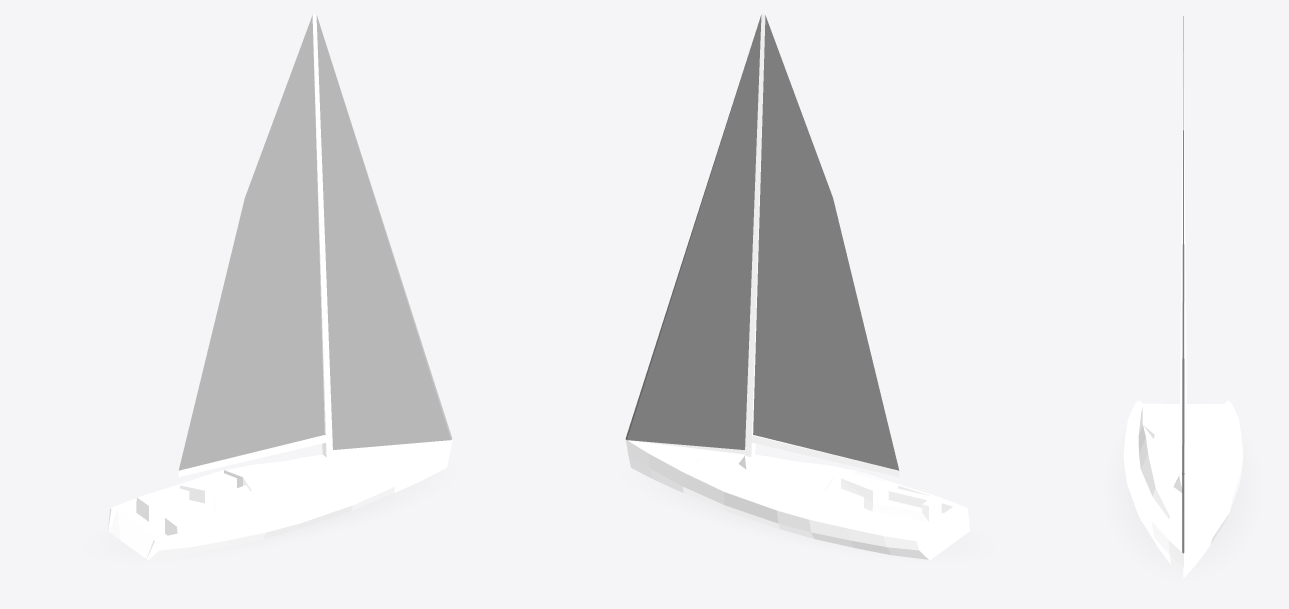
File: AIS_Sailboat-Large-A_001.glb
3 renders of one model, left to right at view 1: azimuth 30°, elevation 25°; view 2: azimuth 150°, elevation 25°; view 3: azimuth 270°, elevation 25°, orthographic. The views are drawn at different scales.
Parts seen in each view (by area): view 1: AIS_Sailboat-A.002, SurfaceGraphic_whiteGlow.004; view 2: AIS_Sailboat-A.002, SurfaceGraphic_whiteGlow.004; view 3: AIS_Sailboat-A.002, SurfaceGraphic_whiteGlow.004.
Boxes of the visible parts, x1=… form: AIS_Sailboat-A.002: x1=108, y1=14, x2=452, y2=559; SurfaceGraphic_whiteGlow.004: x1=113, y1=479, x2=426, y2=553; AIS_Sailboat-A.002: x1=625, y1=14, x2=969, y2=559; SurfaceGraphic_whiteGlow.004: x1=651, y1=479, x2=964, y2=553; AIS_Sailboat-A.002: x1=1123, y1=14, x2=1243, y2=578; SurfaceGraphic_whiteGlow.004: x1=1117, y1=457, x2=1249, y2=564.
Size of the model in its own units: 20.33 by 22.41 by 7.47.
Materials: 3 (2 with a texture image).
